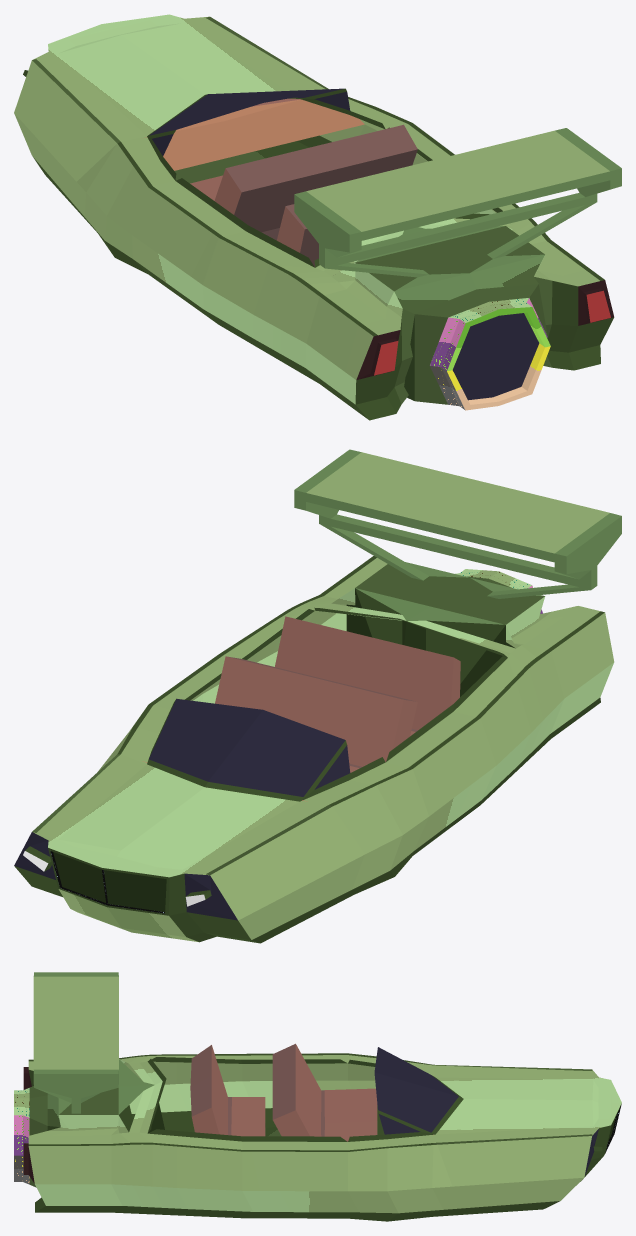
File: cuba_car_cabriolet.glb
The picture shows the model from 3 angles, top to bottom: view 1: azimuth 30°, elevation 25°; view 2: azimuth 150°, elevation 25°; view 3: azimuth 270°, elevation 25°; orthographic projection. The views are drawn at different scales.
Visible parts, largest first — view 1: Cube.003; view 2: Cube.003; view 3: Cube.003.
Part boxes in pixels (<box>): Cube.003: <box>14,14,621,420</box>; Cube.003: <box>14,449,621,943</box>; Cube.003: <box>14,972,621,1221</box>.
Size of the model in its own units: 2.41 by 1.51 by 5.59.
Materials: 1 (1 with a texture image).
